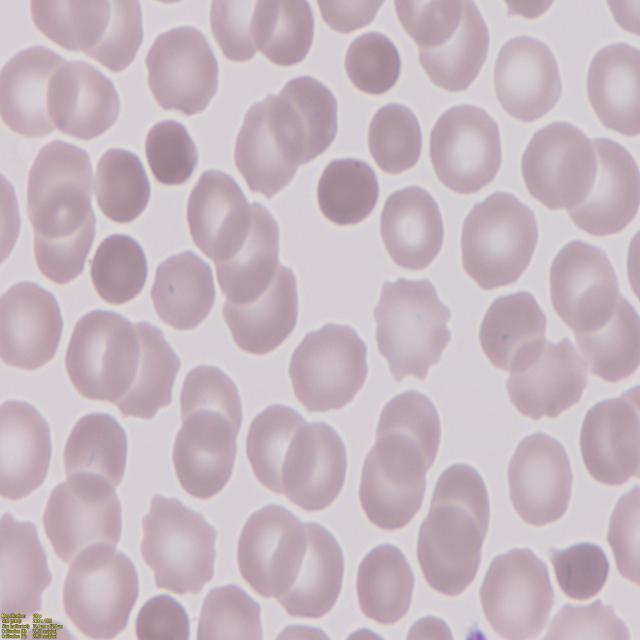RBC: (370, 275, 452, 387), (458, 188, 541, 294), (267, 518, 347, 626), (138, 492, 220, 596), (61, 537, 144, 639), (224, 256, 300, 361), (64, 303, 143, 404), (286, 324, 370, 418), (503, 429, 578, 533), (413, 0, 494, 94), (142, 23, 222, 118), (428, 101, 506, 197), (234, 500, 310, 598), (356, 434, 431, 532), (414, 503, 488, 602), (518, 117, 594, 212), (478, 544, 554, 639), (282, 417, 354, 517), (547, 234, 621, 330), (244, 402, 318, 498), (490, 30, 566, 123), (505, 336, 585, 424), (371, 384, 444, 476), (474, 288, 550, 376), (183, 166, 254, 260), (44, 54, 121, 140), (376, 185, 446, 278), (172, 409, 242, 501), (274, 70, 344, 162), (0, 276, 65, 372), (61, 410, 131, 498), (0, 399, 57, 506), (577, 392, 640, 488), (0, 507, 56, 613), (352, 539, 417, 628), (152, 248, 218, 334), (584, 37, 640, 137), (204, 0, 278, 67), (27, 0, 109, 54), (252, 0, 317, 68), (550, 536, 612, 606), (196, 581, 262, 640), (607, 476, 640, 591), (391, 0, 465, 46), (544, 604, 634, 640), (131, 593, 194, 640), (0, 169, 27, 275), (314, 1, 387, 36), (398, 613, 462, 640), (598, 0, 640, 36)
Spherocyte: (314, 155, 387, 229), (92, 145, 152, 227), (89, 230, 149, 308), (343, 27, 407, 99), (365, 101, 427, 175), (143, 114, 200, 189)
